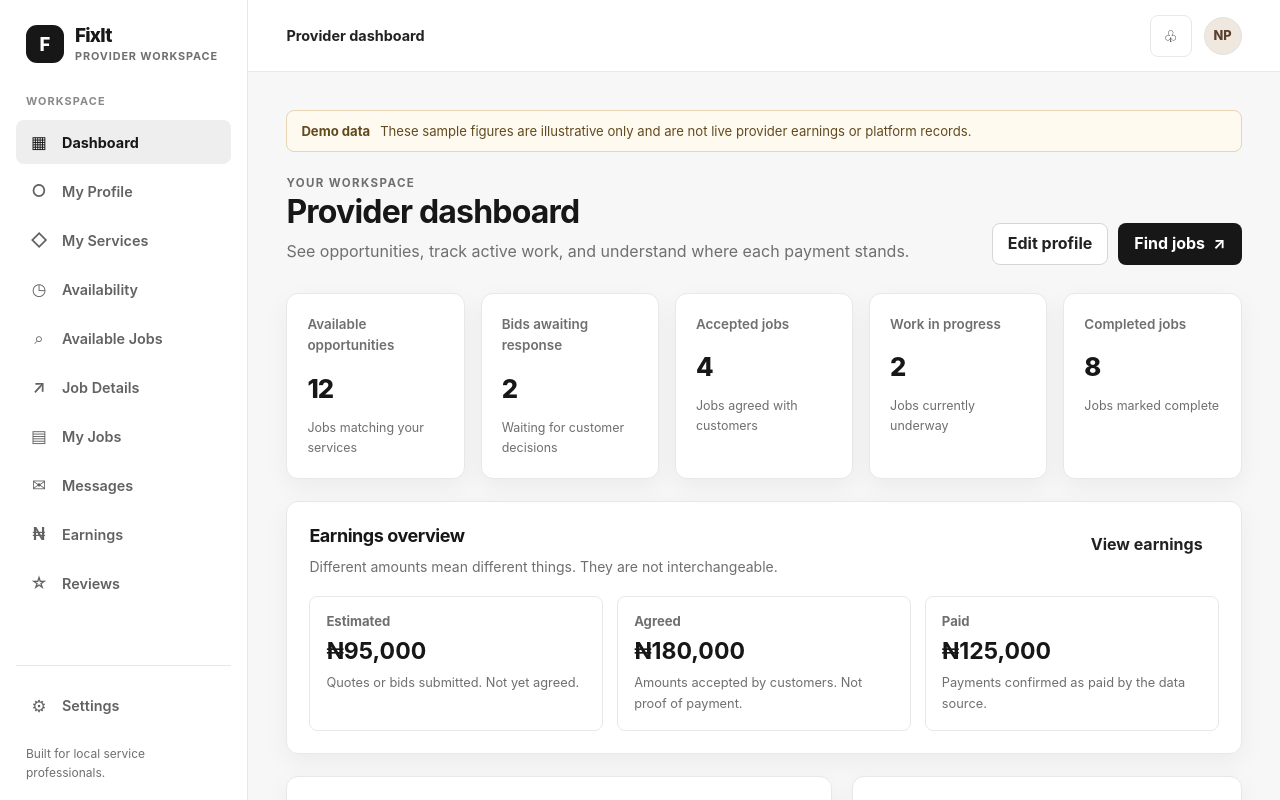
provider workspace navigation › opens the Availability screen and marks it active
Click the text "Availability": [100, 289] box [62,281,138,298]
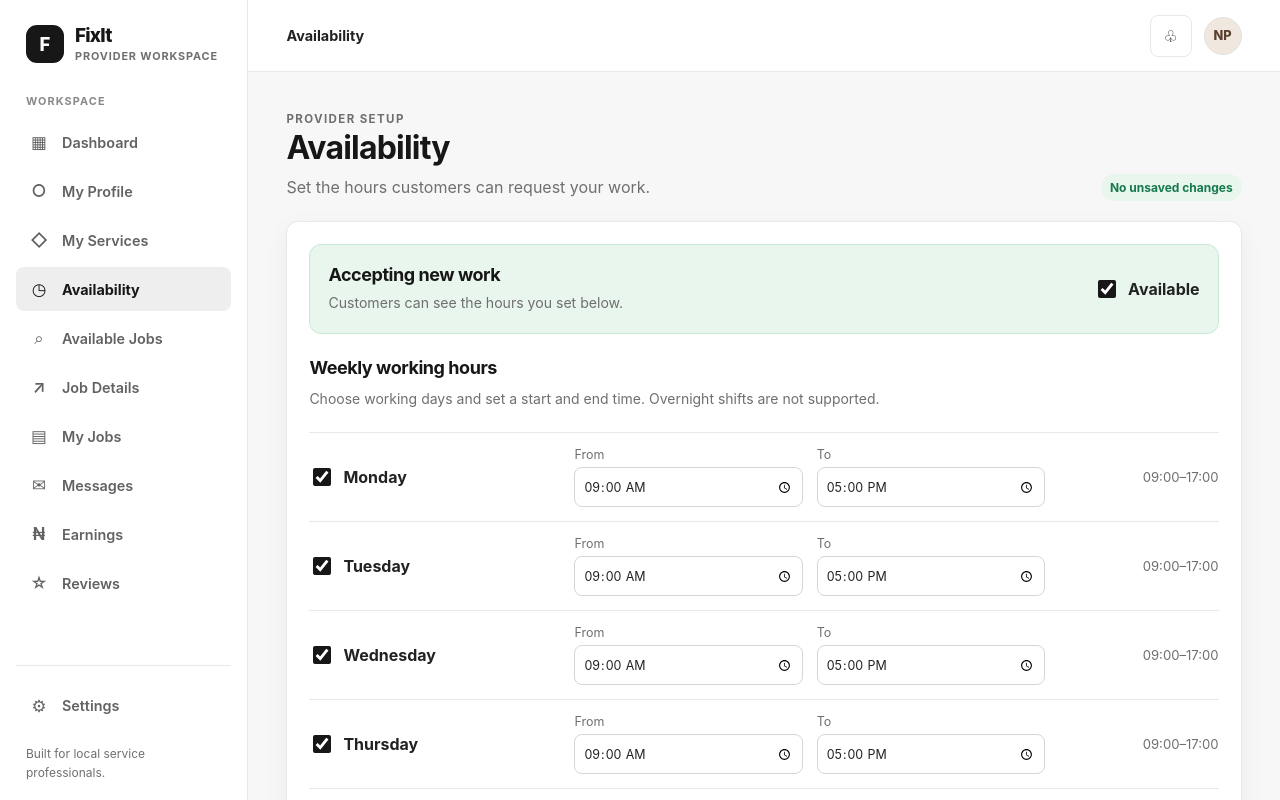
Result: the heading "Availability" is shown at [286,128,450,167]
